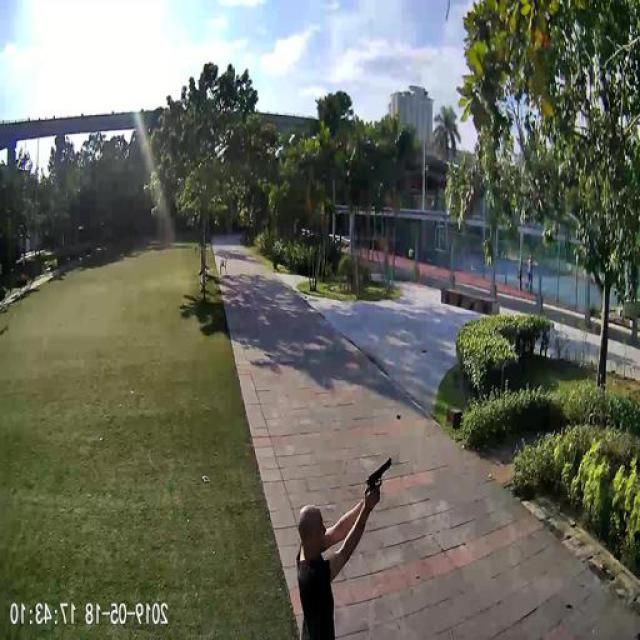weapon: (364, 459, 393, 501)
